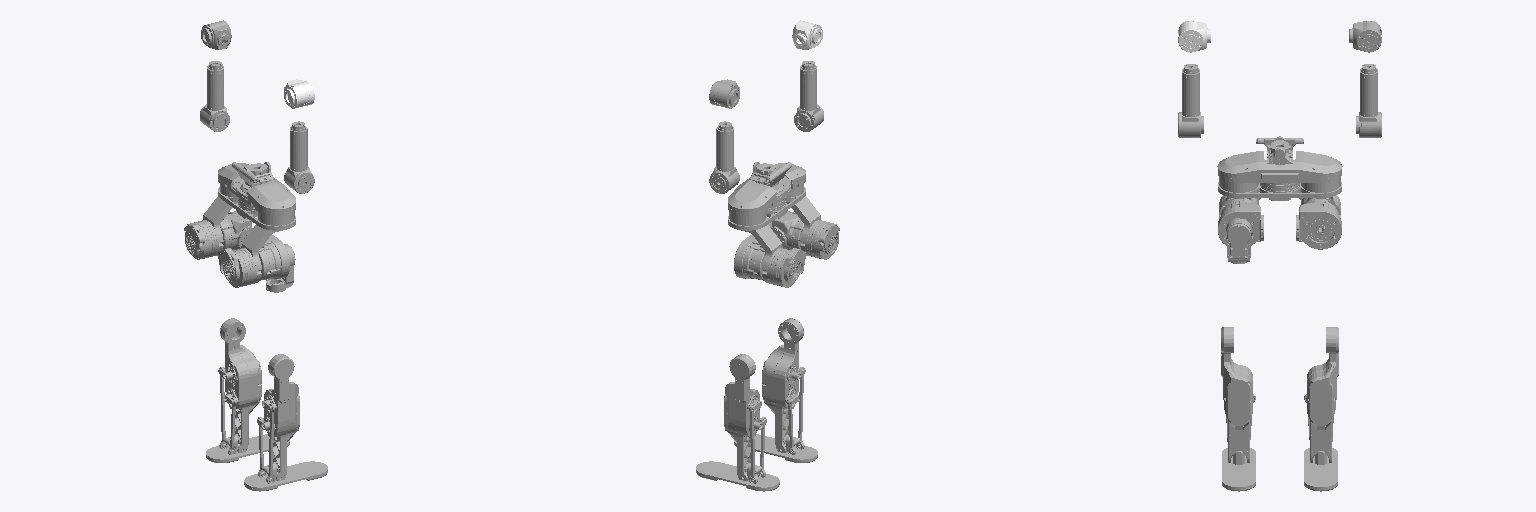
--- Render facts (derived) ---
Views: 3 orthographic renders of the robot side by side, from view 1: azimuth 30°, elevation 25°; view 2: azimuth 150°, elevation 25°; view 3: azimuth 270°, elevation 25°.
Model elf2 with 28 links and 27 joints (12 revolute, 15 fixed), rooted at base_link, posed all joints at 0.
Links seen in each view (by area): view 1: l_knee_y_link, r_knee_y_link, waist_z_link, r_hip_z_link, l_hip_z_link, r_shld_z_link, l_shld_z_link, r_ankle_x_link, r_hip_y_link, l_hip_y_link, l_ankle_x_link, r_shld_y_link (+1 smaller); view 2: r_knee_y_link, l_knee_y_link, waist_z_link, l_hip_z_link, r_hip_z_link, l_shld_z_link, r_shld_z_link, l_ankle_x_link, l_hip_y_link, r_hip_y_link, r_ankle_x_link, l_shld_y_link (+1 smaller); view 3: waist_z_link, l_knee_y_link, r_knee_y_link, l_hip_y_link, l_shld_z_link, r_shld_z_link, l_ankle_x_link, r_ankle_x_link, r_hip_y_link, r_hip_x_link, l_shld_y_link, r_shld_y_link (+1 smaller).
Link boxes in pixels (x1,y1,x2,y2): l_knee_y_link: (218, 318, 261, 454); r_knee_y_link: (257, 354, 299, 483); waist_z_link: (218, 163, 295, 230); r_hip_z_link: (217, 225, 282, 287); l_hip_z_link: (184, 196, 237, 259); r_shld_z_link: (284, 121, 314, 193); l_shld_z_link: (200, 61, 229, 131); r_ankle_x_link: (244, 461, 327, 491); r_hip_y_link: (258, 235, 289, 280); l_hip_y_link: (220, 211, 252, 249); l_ankle_x_link: (206, 434, 289, 462); r_shld_y_link: (284, 79, 314, 108); r_knee_y_link: (762, 318, 805, 454); l_knee_y_link: (724, 354, 766, 483); waist_z_link: (728, 163, 805, 230); l_hip_z_link: (741, 225, 806, 287); r_hip_z_link: (786, 196, 839, 259); l_shld_z_link: (709, 121, 739, 193); r_shld_z_link: (794, 61, 823, 131); l_ankle_x_link: (696, 461, 779, 491); l_hip_y_link: (734, 235, 765, 280); r_hip_y_link: (771, 211, 803, 249); r_ankle_x_link: (734, 434, 817, 462); l_shld_y_link: (709, 79, 739, 108); waist_z_link: (1217, 151, 1342, 200); l_knee_y_link: (1304, 327, 1338, 462); r_knee_y_link: (1221, 327, 1255, 462); l_hip_y_link: (1296, 198, 1341, 249); l_shld_z_link: (1356, 64, 1381, 137); r_shld_z_link: (1178, 64, 1203, 137); l_ankle_x_link: (1304, 448, 1337, 491); r_ankle_x_link: (1222, 448, 1255, 491); r_hip_y_link: (1218, 198, 1263, 245); r_hip_x_link: (1226, 218, 1251, 263); l_shld_y_link: (1349, 21, 1381, 52); r_shld_y_link: (1178, 21, 1210, 52).
Bounding box of the posed robot: 0.2963 × 0.4979 × 1.19 m (x, y, z).
18 mesh visuals loaded from 26 distinct referenced files (18 binary STL); not drawn: 8 (reference not matched to a file when rendering).

URDF robot description (elf2):
<?xml version="1.0" encoding="utf-8"?>
<robot
  name="elf2">
  <link
    name="base_link">
    <inertial>
      <origin
        xyz="-0.002719 0.001928 0.003917"
        rpy="0 0 0" />
      <mass
        value="8.948443" />
      <inertia
        ixx="0.18746"
        ixy="-0.000182"
        ixz="-0.001384"
        iyy="0.142272"
        iyz="0.000105"
        izz="0.069523" />
    </inertial>
    <visual>
      <origin
        xyz="0 0 0"
        rpy="0 0 0" />
      <geometry>
        <mesh
          filename="../meshes/base_link.STL" />
      </geometry>
      <material
        name="">
        <color
          rgba="0.75294 0.75294 0.75294 1" />
      </material>
    </visual>
    <collision>
      <origin
        xyz="0 0 0"
        rpy="0 0 0" />
      <geometry>
        <mesh
          filename="../meshes/base_link.STL" />
      </geometry>
    </collision>
  </link>
  <link
    name="waist_y_link">
    <inertial>
      <origin
        xyz="0.0 0.0 0.0"
        rpy="0 0 0" />
      <mass
        value="0.05316739" />
      <inertia
        ixx="9.7e-06"
        ixy="-0.0"
        ixz="-0.0"
        iyy="9.7e-06"
        iyz="-0.0"
        izz="1.819e-05" />
    </inertial>
    <visual>
      <origin
        xyz="0 0 0"
        rpy="0 0 0" />
      <geometry>
        <mesh
          filename="../meshes/waist_y_link.STL" />
      </geometry>
      <material
        name="">
        <color
          rgba="0.752941176470588 0.752941176470588 0.752941176470588 1" />
      </material>
    </visual>
    <!-- <collision>
      <origin
        xyz="0 0 0"
        rpy="0 0 0" />
      <geometry>
        <mesh
          filename="../meshes/waist_y_link.STL" />
      </geometry>
    </collision> -->
  </link>
  <joint
    name="waist_y_joint"
    type="fixed">
    <origin
      xyz="0 0 -0.2087"
      rpy="0 0 0" />
    <parent
      link="base_link" />
    <child
      link="waist_y_link" />
    <axis
      xyz="0 1 0" />
    <limit
      lower="-0.523"
      upper="0.523"
      effort="50"
      velocity="20" />
  </joint>
  <link
    name="waist_x_link">
    <inertial>
      <origin
        xyz="-0.00448944 0.0 -0.02389195"
        rpy="0 0 0" />
      <mass
        value="0.21792014" />
      <inertia
        ixx="9.089e-05"
        ixy="-0.0"
        ixz="3.456e-05"
        iyy="0.0001491"
        iyz="-0.0"
        izz="0.00013001" />
    </inertial>
    <visual>
      <origin
        xyz="0 0 0"
        rpy="0 0 0" />
      <geometry>
        <mesh
          filename="../meshes/waist_x_link.STL" />
      </geometry>
      <material
        name="">
        <color
          rgba="0.752941176470588 0.752941176470588 0.752941176470588 1" />
      </material>
    </visual>
    <!-- <collision>
      <origin
        xyz="0 0 0"
        rpy="0 0 0" />
      <geometry>
        <mesh
          filename="../meshes/waist_x_link.STL" />
      </geometry>
    </collision> -->
  </link>
  <joint
    name="waist_x_joint"
    type="fixed">
    <origin
      xyz="0 0 0"
      rpy="0 0 0" />
    <parent
      link="waist_y_link" />
    <child
      link="waist_x_link" />
    <axis
      xyz="1 0 0" />
    <limit
      lower="-0.261"
      upper="0.261"
      effort="50"
      velocity="20" />
  </joint>
  <link
    name="waist_z_link">
    <inertial>
      <origin
        xyz="0.00031142 0.00082403 -0.08226891"
        rpy="0 0 0" />
      <mass
        value="3.12645393" />
      <inertia
        ixx="0.0215717"
        ixy="1.17e-06"
        ixz="-1.184e-05"
        iyy="0.00322293"
        iyz="-7.322e-05"
        izz="0.0229471" />
    </inertial>
    <visual>
      <origin
        xyz="0 0 0"
        rpy="0 0 0" />
      <geometry>
        <mesh
          filename="../meshes/waist_z_link.STL" />
      </geometry>
      <material
        name="">
        <color
          rgba="0.752941176470588 0.752941176470588 0.752941176470588 1" />
      </material>
    </visual>
    <collision>
      <origin
        xyz="0 0 0"
        rpy="0 0 0" />
      <geometry>
        <mesh
          filename="../meshes/waist_z_link.STL" />
      </geometry>
    </collision>
  </link>
  <joint
    name="waist_z_joint"
    type="fixed">
    <origin
      xyz="0 0 0"
      rpy="0 0 0" />
    <parent
      link="waist_x_link" />
    <child
      link="waist_z_link" />
    <axis
      xyz="0 0 1" />
    <limit
      lower="-1.57"
      upper="1.57"
      effort="40"
      velocity="20" />
  </joint>
  <link
    name="l_hip_z_link">
    <inertial>
      <origin
        xyz="-0.0951743 -0.00029544 0.01157699"
        rpy="0 0 0" />
      <mass
        value="1.26002534" />
      <inertia
        ixx="0.00250858"
        ixy="-1.87e-05"
        ixz="-0.00093719"
        iyy="0.00299504"
        iyz="6.14e-06"
        izz="0.00188897" />
    </inertial>
    <visual>
      <origin
        xyz="0 0 0"
        rpy="0 0 0" />
      <geometry>
        <mesh
          filename="../meshes/l_hip_z_link.STL" />
      </geometry>
      <material
        name="">
        <color
          rgba="0.752941176470588 0.752941176470588 0.752941176470588 1" />
      </material>
    </visual>
    <collision>
      <origin
        xyz="0 0 0"
        rpy="0 0 0" />
      <geometry>
        <mesh
          filename="../meshes/l_hip_z_link.STL" />
      </geometry>
    </collision>
  </link>
  <joint
    name="l_hip_z_joint"
    type="revolute">
    <origin
      xyz="0 0.1 -0.2175"
      rpy="0 0 0" />
    <parent
      link="waist_z_link" />
    <child
      link="l_hip_z_link" />
    <axis
      xyz="0 0 1" />
    <limit
      lower="-0.785"
      upper="0.785"
      effort="20"
      velocity="20" />
  </joint>
  <link
    name="l_hip_x_link">
    <inertial>
      <origin
        xyz="-0.00349545 -0.05016077 0.00015601"
        rpy="0 0 0" />
      <mass
        value="1.75826055" />
      <inertia
        ixx="0.00145734"
        ixy="0.000276"
        ixz="2.571e-05"
        iyy="0.00183603"
        iyz="-4e-08"
        izz="0.00181117" />
    </inertial>
    <visual>
      <origin
        xyz="0 0 0"
        rpy="0 0 0" />
      <geometry>
        <mesh
          filename="../meshes/l_hip_x_link.STL" />
      </geometry>
      <material
        name="">
        <color
          rgba="0.752941176470588 0.752941176470588 0.752941176470588 1" />
      </material>
    </visual>
    <!-- <collision>
      <origin
        xyz="0 0 0"
        rpy="0 0 0" />
      <geometry>
        <mesh
          filename="../meshes/l_hip_x_link.STL" />
      </geometry>
    </collision> -->
  </link>
  <joint
    name="l_hip_x_joint"
    type="revolute">
    <origin
      xyz="0 0 0"
      rpy="0 0 0" />
    <parent
      link="l_hip_z_link" />
    <child
      link="l_hip_x_link" />
    <axis
      xyz="1 0 0" />
    <limit
      lower="-0.523"
      upper="0.785"
      effort="40"
      velocity="20" />
  </joint>
  <link
    name="l_hip_y_link">
    <inertial>
      <origin
        xyz="0.00237237 0.02408075 -0.04874487"
        rpy="0 0 0" />
      <mass
        value="2.66296335" />
      <inertia
        ixx="0.02678784"
        ixy="0.00016594"
        ixz="0.00075939"
        iyy="0.02619934"
        iyz="-0.00371457"
        izz="0.0045187" />
    </inertial>
    <visual>
      <origin
        xyz="0 0 0"
        rpy="0 0 0" />
      <geometry>
        <mesh
          filename="../meshes/l_hip_y_link.STL" />
      </geometry>
      <material
        name="">
        <color
          rgba="0.752941176470588 0.752941176470588 0.752941176470588 1" />
      </material>
    </visual>
    <!-- <collision>
      <origin
        xyz="0 0 0"
        rpy="0 0 0" />
      <geometry>
        <mesh
          filename="../meshes/l_hip_y_link.STL" />
      </geometry>
    </collision> -->
  </link>
  <joint
    name="l_hip_y_joint"
    type="revolute">
    <origin
      xyz="0 0 0"
      rpy="0 0 0" />
    <parent
      link="l_hip_x_link" />
    <child
      link="l_hip_y_link" />
    <axis
      xyz="0 1 0" />
    <limit
      lower="-2"
      upper="1"
      effort="100"
      velocity="20" />
  </joint>
  <link
    name="l_knee_y_link">
    <inertial>
      <origin
        xyz="0.00711393 -0.00031499 -0.10977806"
        rpy="0 0 0" />
      <mass
        value="1.63072153" />
      <inertia
        ixx="0.01042782"
        ixy="1.62e-06"
        ixz="-0.00054999"
        iyy="0.01018545"
        iyz="-0.00015956"
        izz="0.00140744" />
    </inertial>
    <visual>
      <origin
        xyz="0 0 0"
        rpy="0 0 0" />
      <geometry>
        <mesh
          filename="../meshes/l_knee_y_link.STL" />
      </geometry>
      <material
        name="">
        <color
          rgba="0.752941176470588 0.752941176470588 0.752941176470588 1" />
      </material>
    </visual>
    <collision>
      <origin
        xyz="0 0 0"
        rpy="0 0 0" />
      <geometry>
        <mesh
          filename="../meshes/l_knee_y_link.STL" />
      </geometry>
    </collision>
  </link>
  <joint
    name="l_knee_y_joint"
    type="revolute">
    <origin
      xyz="0 0 -0.3"
      rpy="0 0 0" />
    <parent
      link="l_hip_y_link" />
    <child
      link="l_knee_y_link" />
    <axis
      xyz="0 1 0" />
    <limit
      lower="0"
      upper="2.355"
      effort="120"
      velocity="20" />
  </joint>
  <link
    name="l_ankle_y_link">
    <inertial>
      <origin
        xyz="0.0 0.0 -0.00046563"
        rpy="0 0 0" />
      <mass
        value="0.01206963" />
      <inertia
        ixx="2.89e-06"
        ixy="-0.0"
        ixz="-0.0"
        iyy="3.4e-07"
        iyz="-0.0"
        izz="3.01e-06" />
    </inertial>
    <visual>
      <origin
        xyz="0 0 0"
        rpy="0 0 0" />
      <geometry>
        <mesh
          filename="../meshes/l_ankle_y_link.STL" />
      </geometry>
      <material
        name="">
        <color
          rgba="0.752941176470588 0.752941176470588 0.752941176470588 1" />
      </material>
    </visual>
    <!-- <collision>
      <origin
        xyz="0 0 0"
        rpy="0 0 0" />
      <geometry>
        <mesh
          filename="../meshes/l_ankle_y_link.STL" />
      </geometry>
    </collision> -->
  </link>
  <joint
    name="l_ankle_y_joint"
    type="revolute">
    <origin
      xyz="0 0 -0.3"
      rpy="0 0 0" />
    <parent
      link="l_knee_y_link" />
    <child
      link="l_ankle_y_link" />
    <axis
      xyz="0 1 0" />
    <limit
      lower="-2"
      upper="2"
      effort="12"
      velocity="20" />
  </joint>
  <link
    name="l_ankle_x_link">
    <inertial>
      <origin
        xyz="-0.00088171 0.0 -0.02245193"
        rpy="0 0 0" />
      <mass
        value="0.27064154" />
      <inertia
        ixx="0.00014549"
        ixy="-0.0"
        ixz="5.53e-06"
        iyy="0.00071745"
        iyz="-0.0"
        izz="0.00081666" />
    </inertial>
    <visual>
      <origin
        xyz="0 0 0"
        rpy="0 0 0" />
      <geometry>
        <mesh
          filename="../meshes/l_ankle_x_link.STL" />
      </geometry>
      <material
        name="">
        <color
          rgba="0.752941176470588 0.752941176470588 0.752941176470588 1" />
      </material>
    </visual>
    <collision>
      <origin
        xyz="0 0 0"
        rpy="0 0 0" />
      <geometry>
        <mesh
          filename="../meshes/l_ankle_x_link.STL" />
      </geometry>
    </collision>
  </link>
  <joint
    name="l_ankle_x_joint"
    type="revolute">
    <origin
      xyz="0 0 0"
      rpy="0 0 0" />
    <parent
      link="l_ankle_y_link" />
    <child
      link="l_ankle_x_link" />
    <axis
      xyz="1 0 0" />
    <limit
      lower="-0.349"
      upper="0.349"
      effort="6"
      velocity="20" />
  </joint>
  <link
    name="r_hip_z_link">
    <inertial>
      <origin
        xyz="-0.0951743 0.00029543 0.01157699"
        rpy="0 0 0" />
      <mass
        value="1.26002506" />
      <inertia
        ixx="0.00250858"
        ixy="1.87e-05"
        ixz="-0.00093719"
        iyy="0.00299504"
        iyz="-6.14e-06"
        izz="0.00188897" />
    </inertial>
    <visual>
      <origin
        xyz="0 0 0"
        rpy="0 0 0" />
      <geometry>
        <mesh
          filename="../meshes/r_hip_z_link.STL" />
      </geometry>
      <material
        name="">
        <color
          rgba="0.752941176470588 0.752941176470588 0.752941176470588 1" />
      </material>
    </visual>
    <collision>
      <origin
        xyz="0 0 0"
        rpy="0 0 0" />
      <geometry>
        <mesh
          filename="../meshes/r_hip_z_link.STL" />
      </geometry>
    </collision>
  </link>
  <joint
    name="r_hip_z_joint"
    type="revolute">
    <origin
      xyz="0 -0.1 -0.2175"
      rpy="0 0 0" />
    <parent
      link="waist_z_link" />
    <child
      link="r_hip_z_link" />
    <axis
      xyz="0 0 1" />
    <limit
      lower="-0.785"
      upper="0.785"
      effort="20"
      velocity="20" />
  </joint>
  <link
    name="r_hip_x_link">
    <inertial>
      <origin
        xyz="-0.00349545 0.05016077 0.000156"
        rpy="0 0 0" />
      <mass
        value="1.75825984" />
      <inertia
        ixx="0.00145734"
        ixy="-0.000276"
        ixz="2.571e-05"
        iyy="0.00183603"
        iyz="4e-08"
        izz="0.00181117" />
    </inertial>
    <visual>
      <origin
        xyz="0 0 0"
        rpy="0 0 0" />
      <geometry>
        <mesh
          filename="../meshes/r_hip_x_link.STL" />
      </geometry>
      <material
        name="">
        <color
          rgba="0.752941176470588 0.752941176470588 0.752941176470588 1" />
      </material>
    </visual>
    <!-- <collision>
      <origin
        xyz="0 0 0"
        rpy="0 0 0" />
      <geometry>
        <mesh
          filename="../meshes/r_hip_x_link.STL" />
      </geometry>
    </collision> -->
  </link>
  <joint
    name="r_hip_x_joint"
    type="revolute">
    <origin
      xyz="0 0 0"
      rpy="0 0 0" />
    <parent
      link="r_hip_z_link" />
    <child
      link="r_hip_x_link" />
    <axis
      xyz="1 0 0" />
    <limit
      lower="-0.785"
      upper="0.523"
      effort="40"
      velocity="20" />
  </joint>
  <link
    name="r_hip_y_link">
    <inertial>
      <origin
        xyz="0.00237237 -0.02408076 -0.04874488"
        rpy="0 0 0" />
      <mass
        value="2.66296401" />
      <inertia
        ixx="0.02678786"
        ixy="-0.00016594"
        ixz="0.00075939"
        iyy="0.02619935"
        iyz="0.00371458"
        izz="0.0045187" />
    </inertial>
    <visual>
      <origin
        xyz="0 0 0"
        rpy="0 0 0" />
      <geometry>
        <mesh
          filename="../meshes/r_hip_y_link.STL" />
      </geometry>
      <material
        name="">
        <color
          rgba="0.752941176470588 0.752941176470588 0.752941176470588 1" />
      </material>
    </visual>
    <!-- <collision>
      <origin
        xyz="0 0 0"
        rpy="0 0 0" />
      <geometry>
        <mesh
          filename="../meshes/r_hip_y_link.STL" />
      </geometry>
    </collision> -->
  </link>
  <joint
    name="r_hip_y_joint"
    type="revolute">
    <origin
      xyz="0 0 0"
      rpy="0 0 0" />
    <parent
      link="r_hip_x_link" />
    <child
      link="r_hip_y_link" />
    <axis
      xyz="0 1 0" />
    <limit
      lower="-2"
      upper="1"
      effort="100"
      velocity="20" />
  </joint>
  <link
    name="r_knee_y_link">
    <inertial>
      <origin
        xyz="0.00711396 0.00031502 -0.109778"
        rpy="0 0 0" />
      <mass
        value="1.63072158" />
      <inertia
        ixx="0.01042781"
        ixy="-1.62e-06"
        ixz="-0.00054998"
        iyy="0.01018544"
        iyz="0.00015955"
        izz="0.00140744" />
    </inertial>
    <visual>
      <origin
        xyz="0 0 0"
        rpy="0 0 0" />
      <geometry>
        <mesh
          filename="../meshes/r_knee_y_link.STL" />
      </geometry>
      <material
        name="">
        <color
          rgba="0.752941176470588 0.752941176470588 0.752941176470588 1" />
      </material>
    </visual>
    <collision>
      <origin
        xyz="0 0 0"
        rpy="0 0 0" />
      <geometry>
        <mesh
          filename="../meshes/r_knee_y_link.STL" />
      </geometry>
    </collision>
  </link>
  <joint
    name="r_knee_y_joint"
    type="revolute">
    <origin
      xyz="0 0 -0.3"
      rpy="0 0 0" />
    <parent
      link="r_hip_y_link" />
    <child
      link="r_knee_y_link" />
    <axis
      xyz="0 1 0" />
    <limit
      lower="0"
      upper="2.355"
      effort="120"
      velocity="20" />
  </joint>
  <link
    name="r_ankle_y_link">
    <inertial>
      <origin
        xyz="0.0 0.0 -0.00046563"
        rpy="0 0 0" />
      <mass
        value="0.01206963" />
      <inertia
        ixx="2.89e-06"
        ixy="-0.0"
        ixz="-0.0"
        iyy="3.4e-07"
        iyz="-0.0"
        izz="3.01e-06" />
    </inertial>
    <visual>
      <origin
        xyz="0 0 0"
        rpy="0 0 0" />
      <geometry>
        <mesh
          filename="../meshes/r_ankle_y_link.STL" />
      </geometry>
      <material
        name="">
        <color
          rgba="0.752941176470588 0.752941176470588 0.752941176470588 1" />
      </material>
    </visual>
    <!-- <collision>
      <origin
        xyz="0 0 0"
        rpy="0 0 0" />
      <geometry>
        <mesh
          filename="../meshes/r_ankle_y_link.STL" />
      </geometry>
    </collision> -->
  </link>
  <joint
    name="r_ankle_y_joint"
    type="revolute">
    <origin
      xyz="0 0 -0.3"
      rpy="0 0 0" />
    <parent
      link="r_knee_y_link" />
    <child
      link="r_ankle_y_link" />
    <axis
      xyz="0 1 0" />
    <limit
      lower="-2"
      upper="2"
      effort="12"
      velocity="20" />
  </joint>
  <link
    name="r_ankle_x_link">
    <inertial>
      <origin
        xyz="-0.00088171 0.0 -0.02245193"
        rpy="0 0 0" />
      <mass
        value="0.27064154" />
      <inertia
        ixx="0.00014549"
        ixy="-0.0"
        ixz="5.53e-06"
        iyy="0.00071745"
        iyz="-0.0"
        izz="0.00081666" />
    </inertial>
    <visual>
      <origin
        xyz="0 0 0"
        rpy="0 0 0" />
      <geometry>
        <mesh
          filename="../meshes/r_ankle_x_link.STL" />
      </geometry>
      <material
        name="">
        <color
          rgba="0.752941176470588 0.752941176470588 0.752941176470588 1" />
      </material>
    </visual>
    <collision>
      <origin
        xyz="0 0 0"
        rpy="0 0 0" />
      <geometry>
        <mesh
          filename="../meshes/r_ankle_x_link.STL" />
      </geometry>
    </collision>
  </link>
  <joint
    name="r_ankle_x_joint"
    type="revolute">
    <origin
      xyz="0 0 0"
      rpy="0 0 0" />
    <parent
      link="r_ankle_y_link" />
    <child
      link="r_ankle_x_link" />
    <axis
      xyz="1 0 0" />
    <limit
      lower="-0.349"
      upper="0.349"
      effort="6"
      velocity="20" />
  </joint>
  <link
    name="l_shld_y_link">
    <inertial>
      <origin
        xyz="0.00068297 -0.00449372 2.22e-06"
        rpy="0 0 0" />
      <mass
        value="0.53804971" />
      <inertia
        ixx="0.00030648"
        ixy="4.03e-06"
        ixz="2e-08"
        iyy="0.00029153"
        iyz="1e-07"
        izz="0.00032312" />
    </inertial>
    <visual>
      <origin
        xyz="0 0 0"
        rpy="0 0 0" />
      <geometry>
        <mesh
          filename="../meshes/l_shld_y_link.STL" />
      </geometry>
      <material
        name="">
        <color
          rgba="0.752941176470588 0.752941176470588 0.752941176470588 1" />
      </material>
    </visual>
    <!-- <collision>
      <origin
        xyz="0 0 0"
        rpy="0 0 0" />
      <geometry>
        <mesh
          filename="../meshes/l_shld_y_link.STL" />
      </geometry>
    </collision> -->
  </link>
  <joint
    name="l_shld_y_joint"
    type="fixed">
    <origin
      xyz="0 0.21705 0.09205"
      rpy="0 0 0" />
    <parent
      link="base_link" />
    <child
      link="l_shld_y_link" />
    <axis
      xyz="0 1 0" />
    <limit
      lower="-2"
      upper="2"
      effort="27"
      velocity="20" />
  </joint>
  <link
    name="l_shld_x_link">
    <inertial>
      <origin
        xyz="-2.047e-05 5.316e-05 -0.06162654"
        rpy="0 0 0" />
      <mass
        value="0.48847489" />
      <inertia
        ixx="0.00027194"
        ixy="4e-08"
        ixz="-5.4e-07"
        iyy="0.00033709"
        iyz="-5.4e-07"
        izz="0.0002884" />
    </inertial>
    <visual>
      <origin
        xyz="0 0 0"
        rpy="0 0 0" />
      <geometry>
        <mesh
          filename="../meshes/l_shld_x_link.STL" />
      </geometry>
      <material
        name="">
        <color
          rgba="0.752941176470588 0.752941176470588 0.752941176470588 1" />
      </material>
    </visual>
    <!-- <collision>
      <origin
        xyz="0 0 0"
        rpy="0 0 0" />
      <geometry>
        <mesh
          filename="../meshes/l_shld_x_link.STL" />
      </geometry>
    </collision> -->
  </link>
  <joint
    name="l_shld_x_joint"
    type="fixed">
    <origin
      xyz="0 0 0"
      rpy="0 0 0" />
    <parent
      link="l_shld_y_link" />
    <child
      link="l_shld_x_link" />
    <axis
      xyz="1 0 0" />
    <limit
      lower="-0.5"
      upper="1.57"
      effort="27"
      velocity="20" />
  </joint>
  <link
    name="l_shld_z_link">
    <inertial>
      <origin
        xyz="4.164e-05 0.00022669 -0.2212782"
        rpy="0 0 0" />
      <mass
        value="0.59309528" />
      <inertia
        ixx="0.00136573"
        ixy="5.3e-07"
        ixz="-1e-08"
        iyy="0.00133989"
        iyz="1.22e-06"
        izz="0.00030342" />
    </inertial>
    <visual>
      <origin
        xyz="0 0 0"
        rpy="0 0 0" />
      <geometry>
        <mesh
          filename="../meshes/l_shld_z_link.STL" />
      </geometry>
      <material
        name="">
        <color
          rgba="0.752941176470588 0.752941176470588 0.752941176470588 1" />
      </material>
    </visual>
    <collision>
      <origin
        xyz="0 0 0"
        rpy="0 0 0" />
      <geometry>
        <mesh
          filename="../meshes/l_shld_z_link.STL" />
      </geometry>
    </collision>
  </link>
  <joint
    name="l_shld_z_joint"
    type="fixed">
    <origin
      xyz="0 0 0"
      rpy="0 0 0" />
    <parent
      link="l_shld_x_link" />
    <child
      link="l_shld_z_link" />
    <axis
      xyz="0 0 1" />
    <limit
      lower="-0.785"
      upper="0.785"
      effort="7"
      velocity="20" />
  </joint>
  <link
    name="l_elb_y_link">
    <inertial>
      <origin
        xyz="5.192e-05 1.999e-05 -0.08561189"
        rpy="0 0 0" />
      <mass
        value="0.50005725" />
      <inertia
        ixx="0.00043713"
        ixy="-4e-08"
        ixz="-4.9e-07"
        iyy="0.00036043"
        iyz="6.3e-07"
        izz="0.00030266" />
    </inertial>
    <visual>
      <origin
        xyz="0 0 0"
        rpy="0 0 0" />
      <geometry>
        <mesh
          filename="../meshes/l_elb_y_link.STL" />
      </geometry>
      <material
        name="">
        <color
          rgba="0.752941176470588 0.752941176470588 0.752941176470588 1" />
      </material>
    </visual>
    <collision>
      <origin
        xyz="0 0 0"
        rpy="0 0 0" />
      <geometry>
        <mesh
          filename="../meshes/l_elb_y_link.STL" />
      </geometry>
    </collision>
  </link>
  <joint
    name="l_elb_y_joint"
    type="fixed">
    <origin
      xyz="0 0 -0.24"
      rpy="0 0 0" />
    <parent
      link="l_shld_z_link" />
    <child
      link="l_elb_y_link" />
    <axis
      xyz="0 1 0" />
    <limit
      lower="-2.355"
      upper="0.5"
      effort="27"
      velocity="20" />
  </joint>
  <link
    name="l_elb_z_link">
    <inertial>
      <origin
        xyz="1.97e-06 -1.756e-05 -0.18282539"
        rpy="0 0 0" />
      <mass
        value="0.13457416" />
      <inertia
        ixx="0.00040001"
        ixy="-0.0"
        ixz="-2e-08"
        iyy="0.00039996"
        iyz="1.5e-07"
        izz="5.662e-05" />
    </inertial>
    <visual>
      <origin
        xyz="0 0 0"
        rpy="0 0 0" />
      <geometry>
        <mesh
          filename="../meshes/l_elb_z_link.STL" />
      </geometry>
      <material
        name="">
        <color
          rgba="0.752941176470588 0.752941176470588 0.752941176470588 1" />
      </material>
    </visual>
    <collision>
      <origin
        xyz="0 0 0"
        rpy="0 0 0" />
      <geometry>
        <mesh
          filename="../meshes/l_elb_z_link.STL" />
      </geometry>
    </collision>
  </link>
  <joint
    name="l_elb_z_joint"
    type="fixed">
    <origin
      xyz="0 0 0"
      rpy="0 0 0" />
    <parent
      link="l_elb_y_link" />
    <child
      link="l_elb_z_link" />
    <axis
      xyz="0 0 1" />
    <limit
      lower="-0.785"
      upper="0.785"
      effort="7"
      velocity="20" />
  </joint>
  <link
    name="r_shld_y_link">
    <inertial>
      <origin
        xyz="0.00068297 0.00449372 -2.22e-06"
        rpy="0 0 0" />
      <mass
        value="0.53804971" />
      <inertia
        ixx="0.00030648"
        ixy="-4.03e-06"
        ixz="-2e-08"
        iyy="0.00029153"
        iyz="1e-07"
        izz="0.00032312" />
    </inertial>
    <visual>
      <origin
        xyz="0 0 0"
        rpy="0 0 0" />
      <geometry>
        <mesh
          filename="../meshes/r_shld_y_link.STL" />
      </geometry>
      <material
        name="">
        <color
          rgba="1 1 1 1" />
      </material>
    </visual>
    <!-- <collision>
      <origin
        xyz="0 0 0"
        rpy="0 0 0" />
      <geometry>
        <mesh
          filename="../meshes/r_shld_y_link.STL" />
      </geometry>
    </collision> -->
  </link>
  <joint
    name="r_shld_y_joint"
    type="fixed">
    <origin
      xyz="0 -0.21705 0.09205"
      rpy="0 0 0" />
    <parent
      link="base_link" />
    <child
      link="r_shld_y_link" />
    <axis
      xyz="0 1 0" />
    <limit
      lower="-2"
      upper="2"
      effort="27"
      velocity="20" />
  </joint>
  <link
    name="r_shld_x_link">
    <inertial>
      <origin
        xyz="2.047e-05 -5.316e-05 -0.06162654"
        rpy="0 0 0" />
      <mass
        value="0.48847489" />
      <inertia
        ixx="0.00027194"
        ixy="4e-08"
        ixz="5.4e-07"
        iyy="0.00033709"
        iyz="5.4e-07"
        izz="0.0002884" />
    </inertial>
    <visual>
      <origin
        xyz="0 0 0"
        rpy="0 0 0" />
      <geometry>
        <mesh
          filename="../meshes/r_shld_x_link.STL" />
      </geometry>
      <material
        name="">
        <color
          rgba="0.752941176470588 0.752941176470588 0.752941176470588 1" />
      </material>
    </visual>
    <!-- <collision>
      <origin
        xyz="0 0 0"
        rpy="0 0 0" />
      <geometry>
        <mesh
          filename="../meshes/r_shld_x_link.STL" />
      </geometry>
    </collision> -->
  </link>
  <joint
    name="r_shld_x_joint"
    type="fixed">
    <origin
      xyz="0 0 0"
      rpy="0 0 0" />
    <parent
      link="r_shld_y_link" />
    <child
      link="r_shld_x_link" />
    <axis
      xyz="1 0 0" />
    <limit
      lower="-1.57"
      upper="0.5"
      effort="27"
      velocity="20" />
  </joint>
  <link
    name="r_shld_z_link">
    <inertial>
      <origin
        xyz="-4.164e-05 -0.00022669 -0.2212782"
        rpy="0 0 0" />
      <mass
        value="0.59309528" />
      <inertia
        ixx="0.00136573"
        ixy="5.3e-07"
        ixz="1e-08"
        iyy="0.00133989"
        iyz="-1.22e-06"
        izz="0.00030342" />
    </inertial>
    <visual>
      <origin
        xyz="0 0 0"
        rpy="0 0 0" />
      <geometry>
        <mesh
          filename="../meshes/r_shld_z_link.STL" />
      </geometry>
      <material
        name="">
        <color
          rgba="0.752941176470588 0.752941176470588 0.752941176470588 1" />
      </material>
    </visual>
    <collision>
      <origin
        xyz="0 0 0"
        rpy="0 0 0" />
      <geometry>
        <mesh
          filename="../meshes/r_shld_z_link.STL" />
      </geometry>
    </collision>
  </link>
  <joint
    name="r_shld_z_joint"
    type="fixed">
    <origin
      xyz="0 0 0"
      rpy="0 0 0" />
    <parent
      link="r_shld_x_link" />
    <child
      link="r_shld_z_link" />
    <axis
      xyz="0 0 1" />
    <limit
      lower="-0.785"
      upper="0.785"
      effort="7"
      velocity="20" />
  </joint>
  <link
    name="r_elb_y_link">
    <inertial>
      <origin
        xyz="-5.192e-05 -1.999e-05 -0.08561189"
        rpy="0 0 0" />
      <mass
        value="0.50005725" />
      <inertia
        ixx="0.00043713"
        ixy="-4e-08"
        ixz="4.9e-07"
        iyy="0.00036043"
        iyz="-6.3e-07"
        izz="0.00030266" />
    </inertial>
    <visual>
      <origin
        xyz="0 0 0"
        rpy="0 0 0" />
      <geometry>
        <mesh
          filename="../meshes/r_elb_y_link.STL" />
      </geometry>
      <material
        name="">
        <color
          rgba="0.752941176470588 0.752941176470588 0.752941176470588 1" />
      </material>
    </visual>
    <collision>
      <origin
        xyz="0 0 0"
        rpy="0 0 0" />
      <geometry>
        <mesh
          filename="../meshes/r_elb_y_link.STL" />
      </geometry>
    </collision>
  </link>
  <joint
    name="r_elb_y_joint"
    type="fixed">
    <origin
      xyz="0 0 -0.24"
      rpy="0 0 0" />
    <parent
      link="r_shld_z_link" />
    <child
      link="r_elb_y_link" />
    <axis
      xyz="0 1 0" />
    <limit
      lower="-2.355"
      upper="0.5"
      effort="27"
      velocity="20" />
  </joint>
  <link
    name="r_elb_z_link">
    <inertial>
      <origin
        xyz="-1.97e-06 1.756e-05 -0.18282539"
        rpy="0 0 0" />
      <mass
        value="0.13457416" />
      <inertia
        ixx="0.00040001"
        ixy="-0.0"
        ixz="2e-08"
        iyy="0.00039996"
        iyz="-1.5e-07"
        izz="5.662e-05" />
    </inertial>
    <visual>
      <origin
        xyz="0 0 0"
        rpy="0 0 0" />
      <geometry>
        <mesh
          filename="../meshes/r_elb_z_link.STL" />
      </geometry>
      <material
        name="">
        <color
          rgba="0.752941176470588 0.752941176470588 0.752941176470588 1" />
      </material>
    </visual>
    <collision>
      <origin
        xyz="0 0 0"
        rpy="0 0 0" />
      <geometry>
        <mesh
          filename="../meshes/r_elb_z_link.STL" />
      </geometry>
    </collision>
  </link>
  <joint
    name="r_elb_z_joint"
    type="fixed">
    <origin
      xyz="0 0 0"
      rpy="0 0 0" />
    <parent
      link="r_elb_y_link" />
    <child
      link="r_elb_z_link" />
    <axis
      xyz="0 0 1" />
    <limit
      lower="-0.785"
      upper="0.785"
      effort="7"
      velocity="20" />
  </joint>
  <link
    name="d435i">
  </link>
  <joint
    name="d435i_joint"
    type="fixed">
    <origin
      xyz="0.03255 0 0.2818"
      rpy="-1.5708 0 -1.5708" />
    <parent
      link="base_link" />
    <child
      link="d435i" />
    <axis
      xyz="0 0 0" />
  </joint>
  <link
    name="mid360">
  </link>
  <joint
    name="mid360_joint"
    type="fixed">
    <origin
      xyz="0 0 0.23988"
      rpy="3.1416 0 1.5708" />
    <parent
      link="base_link" />
    <child
      link="mid360" />
    <axis
      xyz="0 0 0" />
  </joint>
</robot>
